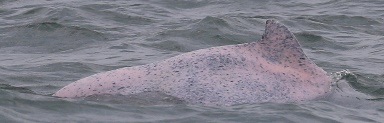fin: (46, 15, 354, 119)
